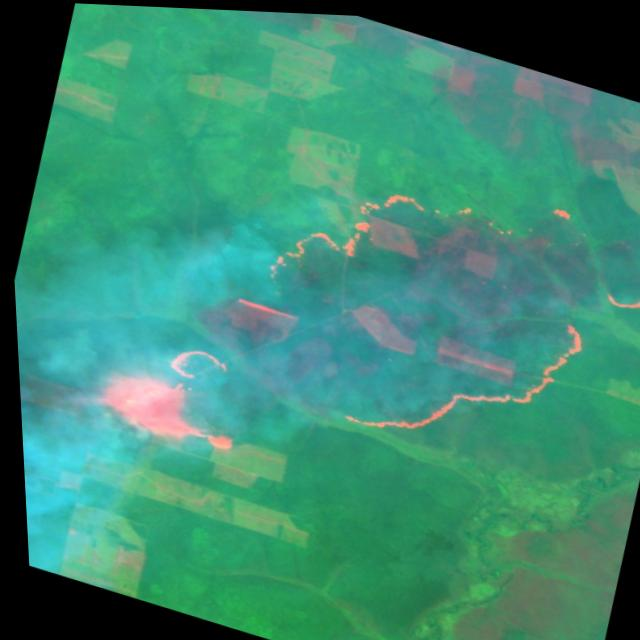fire: (202, 112, 640, 501), (77, 316, 257, 461)
